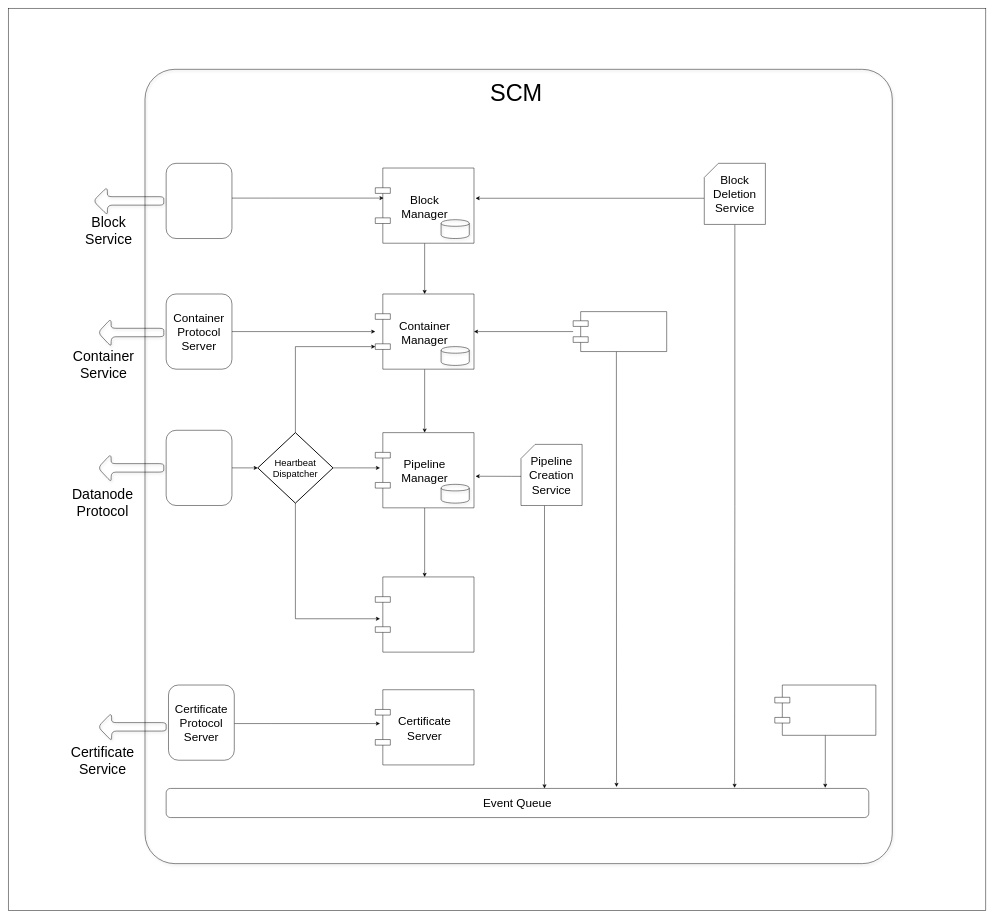
The diagram is 994 pixels wide and 919 high, and some of its shapes have lost their labels. The centre of each missing label's shape, as x and y in pixels:
"Block Protocol Server" belongs at pixel 199 201.
"Datanode Protocol Server" belongs at pixel 199 467.
"Node Manager" belongs at pixel 424 614.
"Replication Manager" belongs at pixel 620 331.
"Safe Mode Manager" belongs at pixel 825 710.
